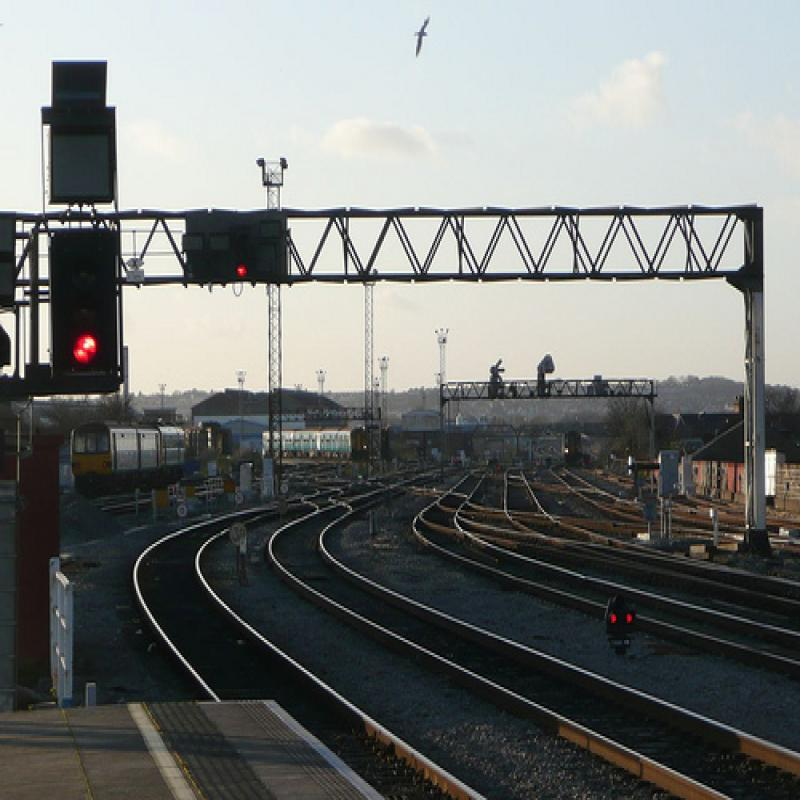train: (70, 428, 190, 502), (260, 428, 374, 466)
